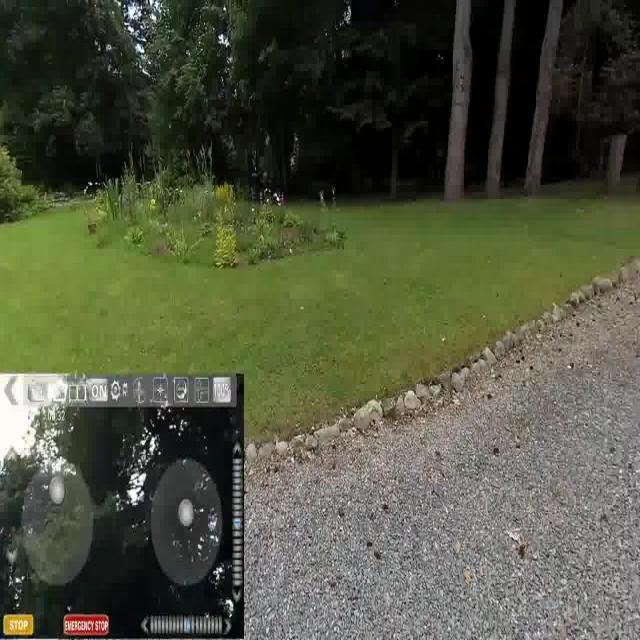drones: (334, 228, 352, 248)
